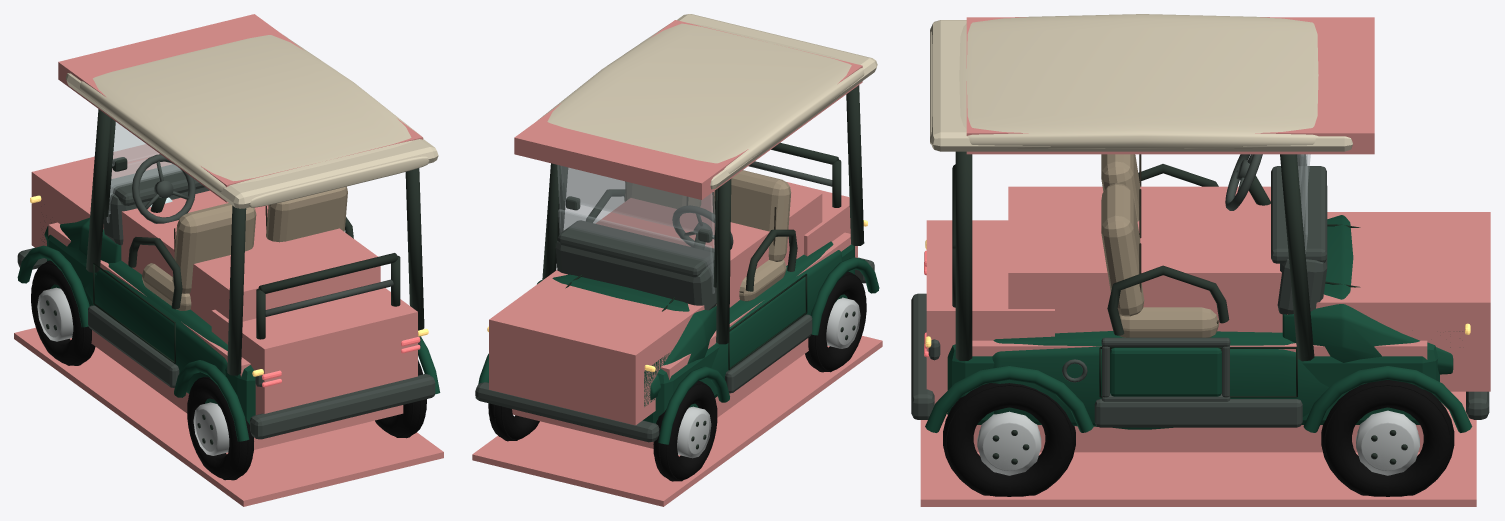
The model's file is golf_cart_basic.glb.
3 renders of one model, left to right at view 1: azimuth 30°, elevation 25°; view 2: azimuth 150°, elevation 25°; view 3: azimuth 270°, elevation 25°, orthographic. The views are drawn at different scales.
Visible parts, largest first — view 1: RoofShell, COL_VEHICLE_FOOTPRINT, COL_RearBody, COL_SeatArea, Body, COL_Roof, COL_FrontBody, RearBumper, LOD1_Roof, Seat_Driver_Back, COL_Chassis, Seat_Passenger_Front_Back (+35 smaller); view 2: RoofShell, COL_FrontBody, COL_VEHICLE_FOOTPRINT, LOD1_Windshield, COL_Roof, COL_SeatArea, Body, Windshield_Upper_Glass, Dashboard, DashboardTop, Seat_Driver_Back, FrontBody (+32 smaller); view 3: RoofShell, COL_SeatArea, COL_VEHICLE_FOOTPRINT, COL_FrontBody, COL_RearBody, Body, COL_Roof, COL_Chassis, LOD0_Wheel_FR_TireAssembly, LOD0_Wheel_RR_TireAssembly, FrontBody, LOD1_Roof (+29 smaller).
Part boxes in pixels (x1,y1,x2,y2): RoofShell: [80, 35, 429, 207]; COL_VEHICLE_FOOTPRINT: [14, 327, 443, 506]; COL_RearBody: [211, 288, 417, 414]; COL_SeatArea: [121, 190, 380, 326]; Body: [85, 260, 227, 406]; COL_Roof: [58, 14, 422, 202]; COL_FrontBody: [31, 144, 171, 247]; RearBumper: [250, 374, 435, 439]; LOD1_Roof: [66, 73, 438, 208]; Seat_Driver_Back: [172, 203, 256, 293]; COL_Chassis: [48, 222, 403, 449]; Seat_Passenger_Front_Back: [266, 186, 347, 242]; RoofShell: [538, 23, 864, 173]; COL_FrontBody: [489, 270, 704, 425]; COL_VEHICLE_FOOTPRINT: [472, 335, 882, 506]; LOD1_Windshield: [557, 165, 714, 272]; COL_Roof: [514, 20, 862, 199]; COL_SeatArea: [596, 186, 822, 307]; Body: [711, 241, 842, 379]; Windshield_Upper_Glass: [561, 166, 715, 236]; Dashboard: [555, 241, 716, 310]; DashboardTop: [558, 220, 713, 277]; Seat_Driver_Back: [714, 170, 791, 261]; FrontBody: [537, 274, 716, 399]; RoofShell: [930, 14, 1318, 148]; COL_SeatArea: [1008, 186, 1282, 333]; COL_VEHICLE_FOOTPRINT: [920, 391, 1476, 506]; COL_FrontBody: [1287, 212, 1490, 391]; COL_RearBody: [926, 220, 1054, 412]; Body: [990, 331, 1328, 427]; COL_Roof: [966, 17, 1374, 154]; COL_Chassis: [972, 340, 1427, 452]; LOD0_Wheel_FR_TireAssembly: [1321, 380, 1454, 496]; LOD0_Wheel_RR_TireAssembly: [943, 383, 1075, 496]; FrontBody: [1282, 215, 1453, 374]; LOD1_Roof: [930, 20, 1352, 151].
Size of what is drawn, in the model's own units: 1.24 by 1.78 by 2.48.
